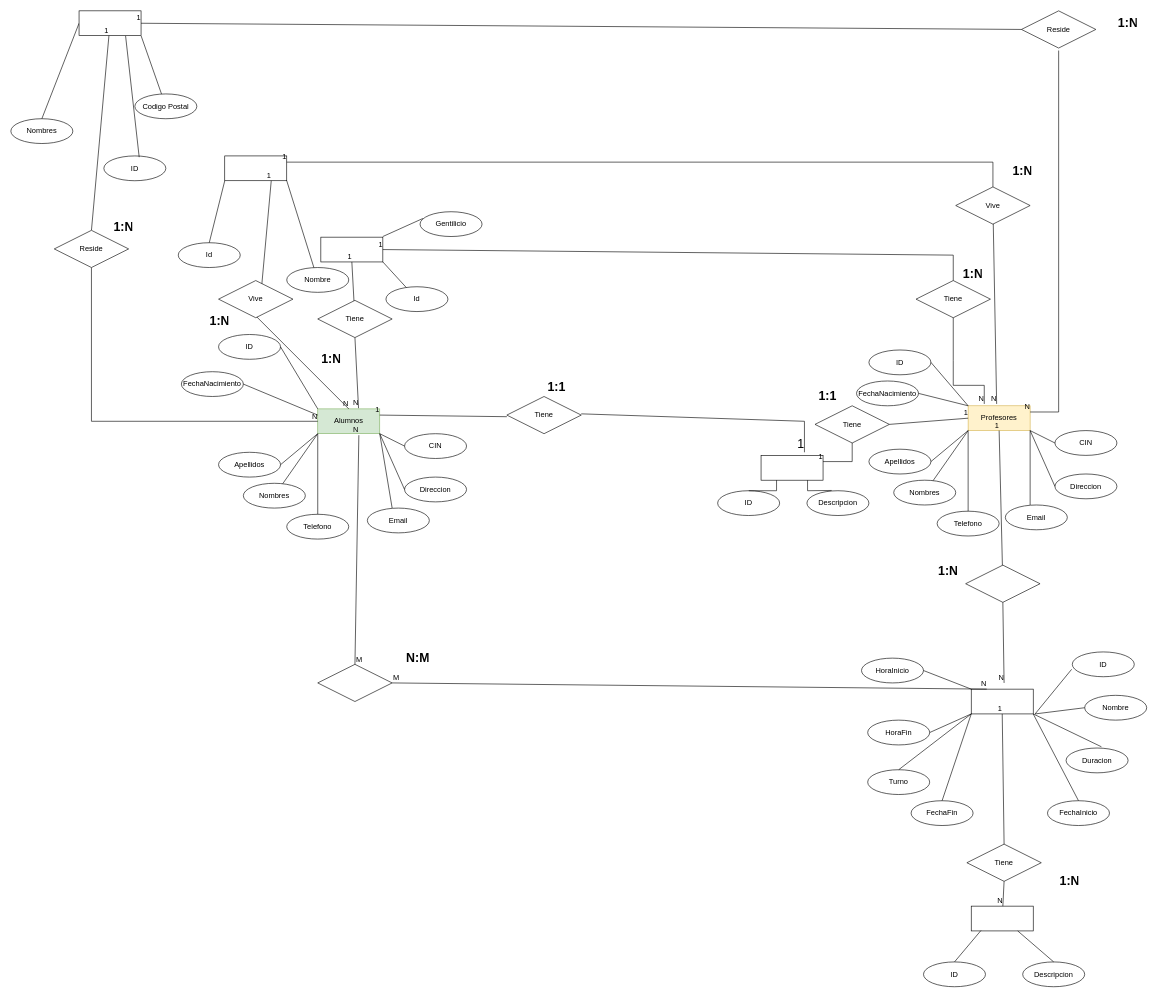
Some shapes in this 1158 by 998 pixel diagram are drawn without their labels. The box of each missing label's shape, as (x1, y1, x2, y2) in pixels:
Asiste: (317, 664, 392, 702)
Barrio: (224, 155, 287, 181)
Ciudades: (78, 10, 141, 36)
Cursos: (971, 689, 1033, 714)
Imparte: (965, 565, 1040, 602)
Nancionalidad: (320, 237, 383, 262)
Sexo: (760, 455, 823, 480)
Turnos: (971, 906, 1033, 931)
